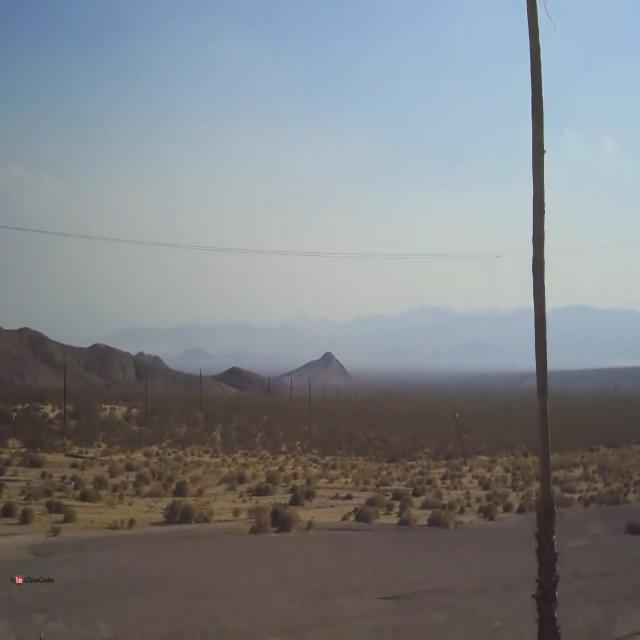Tree: (513, 0, 572, 640)
